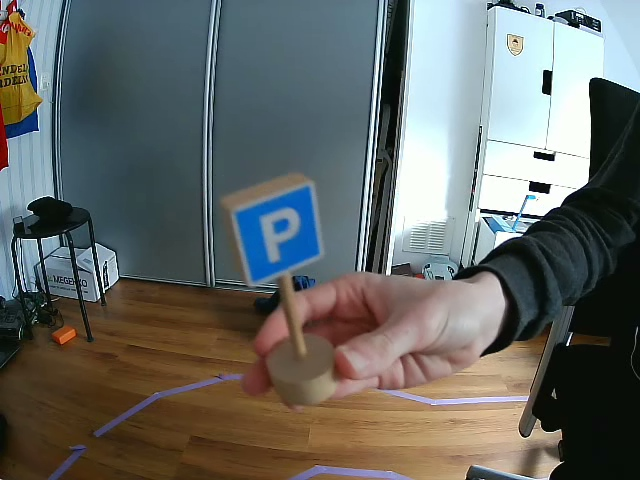parkeerbord: (234, 178, 325, 288)
